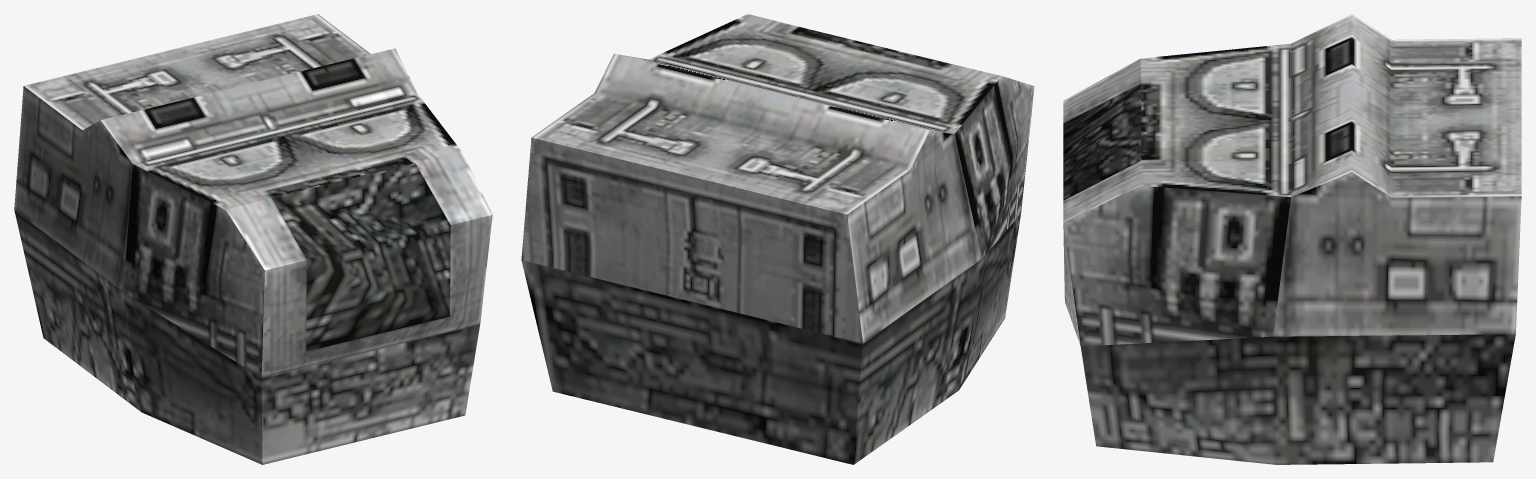
Rendered from star_destroyer_turret_square_base_l2.fbx.
The picture shows the model from 3 angles, left to right: view 1: azimuth 30°, elevation 25°; view 2: azimuth 150°, elevation 25°; view 3: azimuth 270°, elevation 25°; orthographic projection. The views are drawn at different scales.
Visible parts, largest first — view 1: mesh_node; view 2: mesh_node; view 3: mesh_node.
Part boxes in pixels (x1=…): mesh_node: x1=14, y1=14, x2=492, y2=464; mesh_node: x1=521, y1=14, x2=1034, y2=464; mesh_node: x1=1063, y1=14, x2=1521, y2=464.
Size of the model in its own units: 38.96 by 31.5 by 43.81.
Materials: 1 (1 with a texture image).
